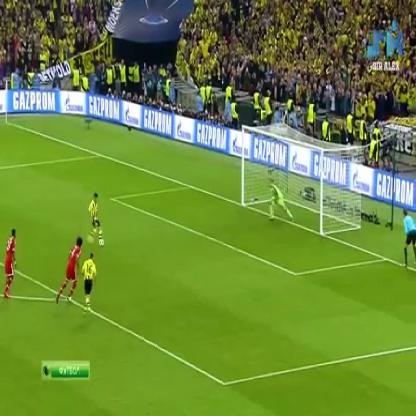penalty kick: (63, 113, 344, 250)
